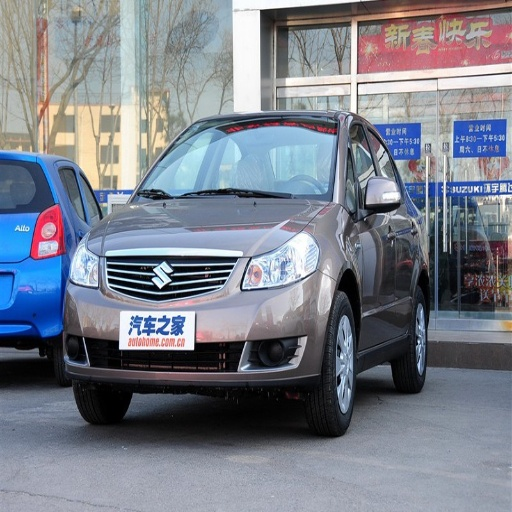back_glass: (3, 163, 43, 210)
front_bumper: (62, 250, 333, 387)
front_glass: (128, 125, 337, 201)
front_left_door: (348, 120, 393, 347)
front_right_light: (69, 237, 101, 288)
